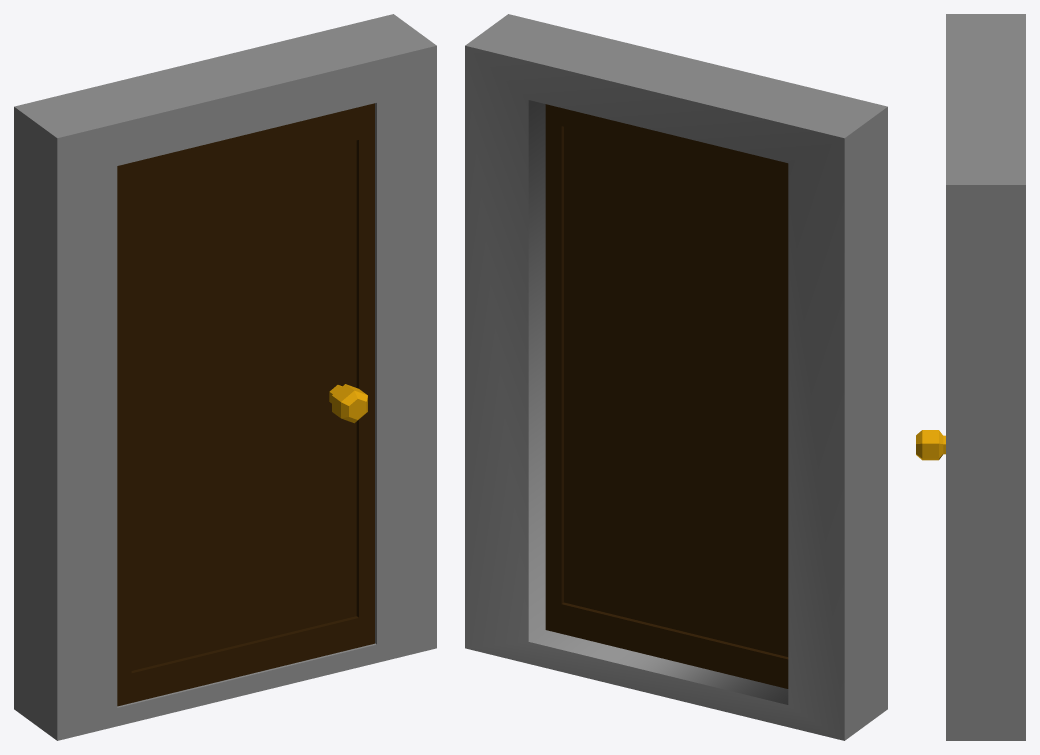
The model's file is door 2 level.fbx.
3 renders of one model, left to right at view 1: azimuth 30°, elevation 25°; view 2: azimuth 150°, elevation 25°; view 3: azimuth 270°, elevation 25°, orthographic. The views are drawn at different scales.
Parts seen in each view (by area): view 1: Door, Cube.011; view 2: Cube.011, Door; view 3: Cube.011, Door.
Part boxes in pixels (box(x1,y1,x2,y2)): Door: box(117, 103, 374, 706); Cube.011: box(14, 14, 436, 740); Cube.011: box(465, 14, 887, 740); Door: box(545, 104, 788, 688); Cube.011: box(946, 14, 1025, 740); Door: box(916, 430, 945, 460).
Bounding box in the file's own units: 140 × 213 × 38.1.
